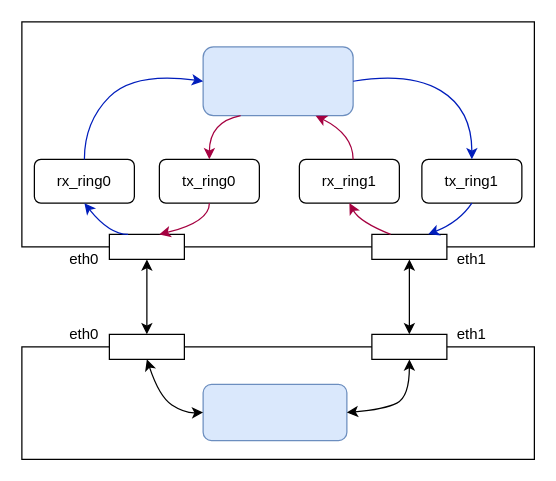
This 556x481 diagram has some shape labels left out. Each missing label, with the box of its shape:
DPDK Simple Pktgen: (202, 383, 347, 441)
K-V Cache: (202, 46, 353, 116)
